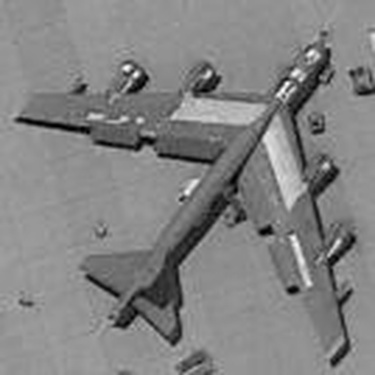airplane: (6, 17, 362, 367)
